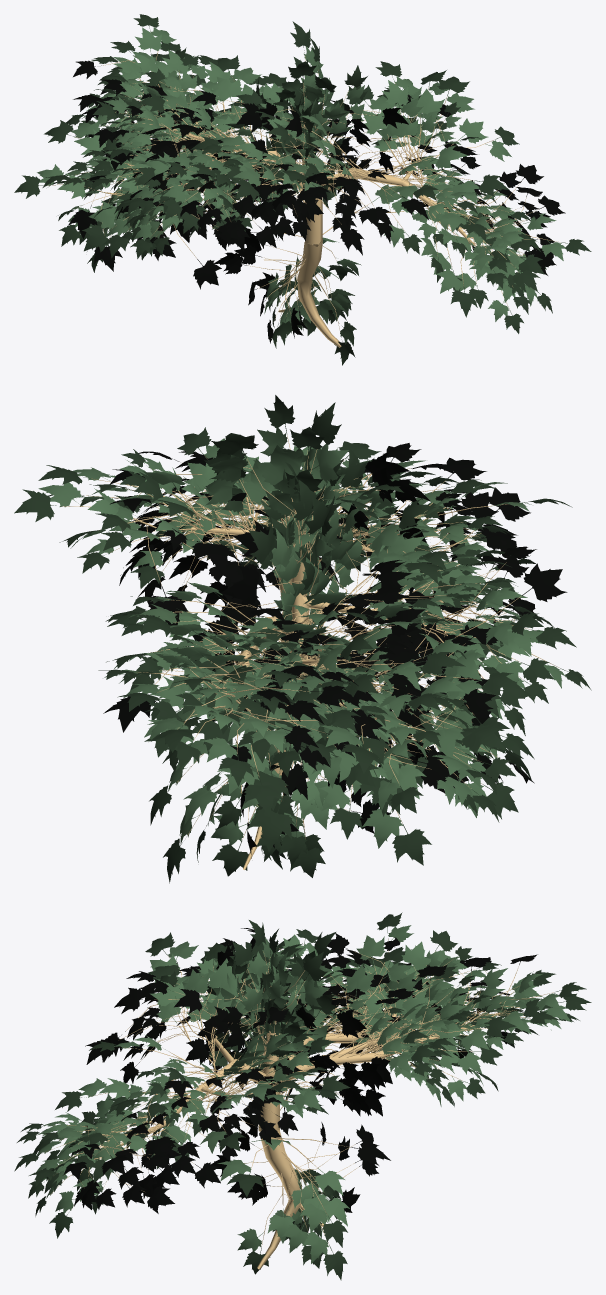
The model's file is krzak1.fbx.
3 renders of one model, top to bottom at view 1: azimuth 30°, elevation 25°; view 2: azimuth 150°, elevation 25°; view 3: azimuth 270°, elevation 25°, orthographic. The views are drawn at different scales.
Visible parts, largest first — view 1: Tree, leafs|tree|Dupli|119, leafs|tree|Dupli|167, leafs|tree|Dupli|142, leafs|tree|Dupli|100, leafs|tree|Dupli|221, leafs|tree|Dupli|238, leafs|tree|Dupli|249, leafs|tree|Dupli|251, leafs|tree|Dupli|13, leafs|tree|Dupli|52, leafs|tree|Dupli|201 (+69 smaller); view 2: leafs|tree|Dupli|146, leafs|tree|Dupli|154, leafs|tree|Dupli|212, leafs|tree|Dupli|97, leafs|tree|Dupli|74, leafs|tree|Dupli|195, leafs|tree|Dupli|43, leafs|tree|Dupli|144, leafs|tree|Dupli|124, Tree, leafs|tree|Dupli|40, leafs|tree|Dupli|132 (+95 smaller); view 3: Tree, leafs|tree|Dupli|63, leafs|tree|Dupli|184, leafs|tree|Dupli|258, leafs|tree|Dupli|151, tree, leafs|tree|Dupli|128, leafs|tree|Dupli|56, leafs|tree|Dupli|6, leafs|tree|Dupli|195, leafs|tree|Dupli|55, leafs|tree|Dupli|229 (+63 smaller).
Boxes of the visible parts, bbox=[...] form: Tree: bbox=[173, 129, 473, 347]; leafs|tree|Dupli|119: bbox=[82, 200, 221, 289]; leafs|tree|Dupli|167: bbox=[44, 120, 138, 238]; leafs|tree|Dupli|142: bbox=[381, 104, 509, 204]; leafs|tree|Dupli|100: bbox=[14, 164, 122, 271]; leafs|tree|Dupli|221: bbox=[331, 76, 474, 183]; leafs|tree|Dupli|238: bbox=[231, 165, 364, 255]; leafs|tree|Dupli|249: bbox=[73, 14, 176, 78]; leafs|tree|Dupli|251: bbox=[435, 228, 550, 317]; leafs|tree|Dupli|13: bbox=[469, 195, 565, 291]; leafs|tree|Dupli|52: bbox=[166, 55, 261, 148]; leafs|tree|Dupli|201: bbox=[466, 164, 544, 274]; leafs|tree|Dupli|146: bbox=[208, 433, 430, 557]; leafs|tree|Dupli|154: bbox=[362, 701, 491, 865]; leafs|tree|Dupli|212: bbox=[421, 563, 567, 755]; leafs|tree|Dupli|97: bbox=[14, 482, 191, 625]; leafs|tree|Dupli|74: bbox=[390, 624, 507, 757]; leafs|tree|Dupli|195: bbox=[204, 448, 409, 547]; leafs|tree|Dupli|43: bbox=[241, 744, 449, 852]; leafs|tree|Dupli|144: bbox=[217, 700, 382, 816]; leafs|tree|Dupli|124: bbox=[221, 446, 367, 610]; Tree: bbox=[191, 527, 446, 869]; leafs|tree|Dupli|40: bbox=[367, 688, 496, 813]; leafs|tree|Dupli|132: bbox=[216, 402, 348, 527]; Tree: bbox=[120, 1013, 471, 1269]; leafs|tree|Dupli|63: bbox=[279, 1124, 373, 1247]; leafs|tree|Dupli|184: bbox=[215, 1006, 350, 1112]; leafs|tree|Dupli|258: bbox=[416, 965, 516, 1053]; leafs|tree|Dupli|151: bbox=[185, 941, 270, 1064]; tree: bbox=[217, 1137, 390, 1196]; leafs|tree|Dupli|128: bbox=[55, 1078, 190, 1162]; leafs|tree|Dupli|56: bbox=[285, 1157, 378, 1280]; leafs|tree|Dupli|6: bbox=[237, 1172, 360, 1274]; leafs|tree|Dupli|195: bbox=[216, 943, 329, 1036]; leafs|tree|Dupli|55: bbox=[114, 939, 278, 1069]; leafs|tree|Dupli|229: bbox=[85, 962, 213, 1064].
Bounding box in the file's own units: 929 × 700 × 1087.
